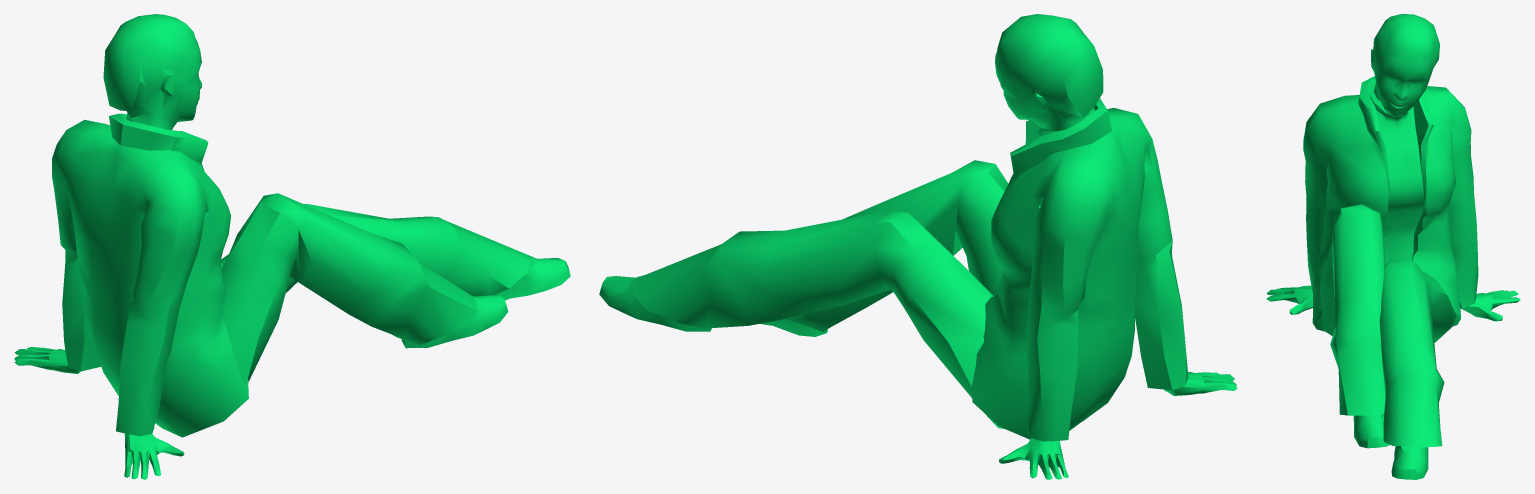
The model's file is SM_Woman_Pants_Sit04.glb.
The picture shows the model from 3 angles, left to right: view 1: azimuth 30°, elevation 25°; view 2: azimuth 150°, elevation 25°; view 3: azimuth 270°, elevation 25°; orthographic projection. The views are drawn at different scales.
Parts seen in each view (by area): view 1: SM_Woman_Pants_Sit04; view 2: SM_Woman_Pants_Sit04; view 3: SM_Woman_Pants_Sit04.
Part boxes in pixels (left/top/right/bottom): SM_Woman_Pants_Sit04: left=14, top=14, right=570, bottom=479; SM_Woman_Pants_Sit04: left=599, top=14, right=1237, bottom=479; SM_Woman_Pants_Sit04: left=1266, top=14, right=1520, bottom=479.
Bounding box in the file's own units: 1.21 × 0.8745 × 0.6225.
